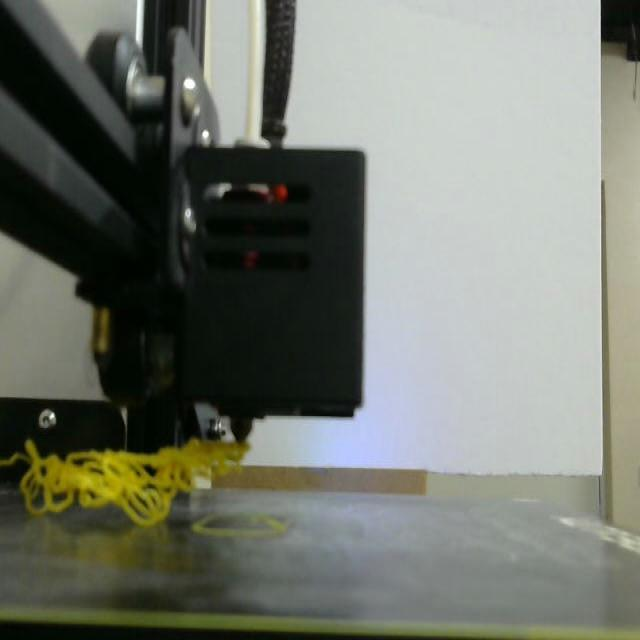spaghetti: (0, 438, 249, 526)
